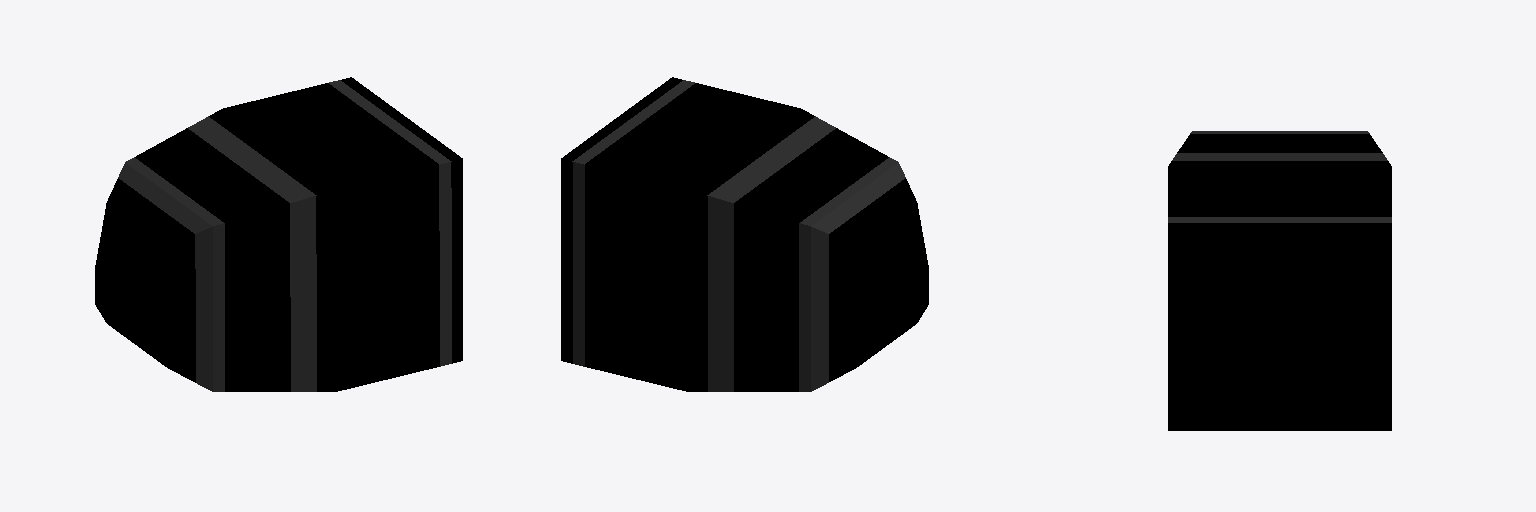
3 renders of one model, left to right at view 1: azimuth 30°, elevation 25°; view 2: azimuth 150°, elevation 25°; view 3: azimuth 270°, elevation 25°, orthographic.
Parts seen in each view (by area): view 1: Cube; view 2: Cube; view 3: Cube.
Part boxes in pixels (x1,y1,x2,y2): Cube: (95, 77, 462, 391); Cube: (561, 77, 928, 391); Cube: (1168, 131, 1391, 430).
Bounding box in the file's own units: 4.7 × 3 × 3.
Materials: 1 (1 with a texture image).